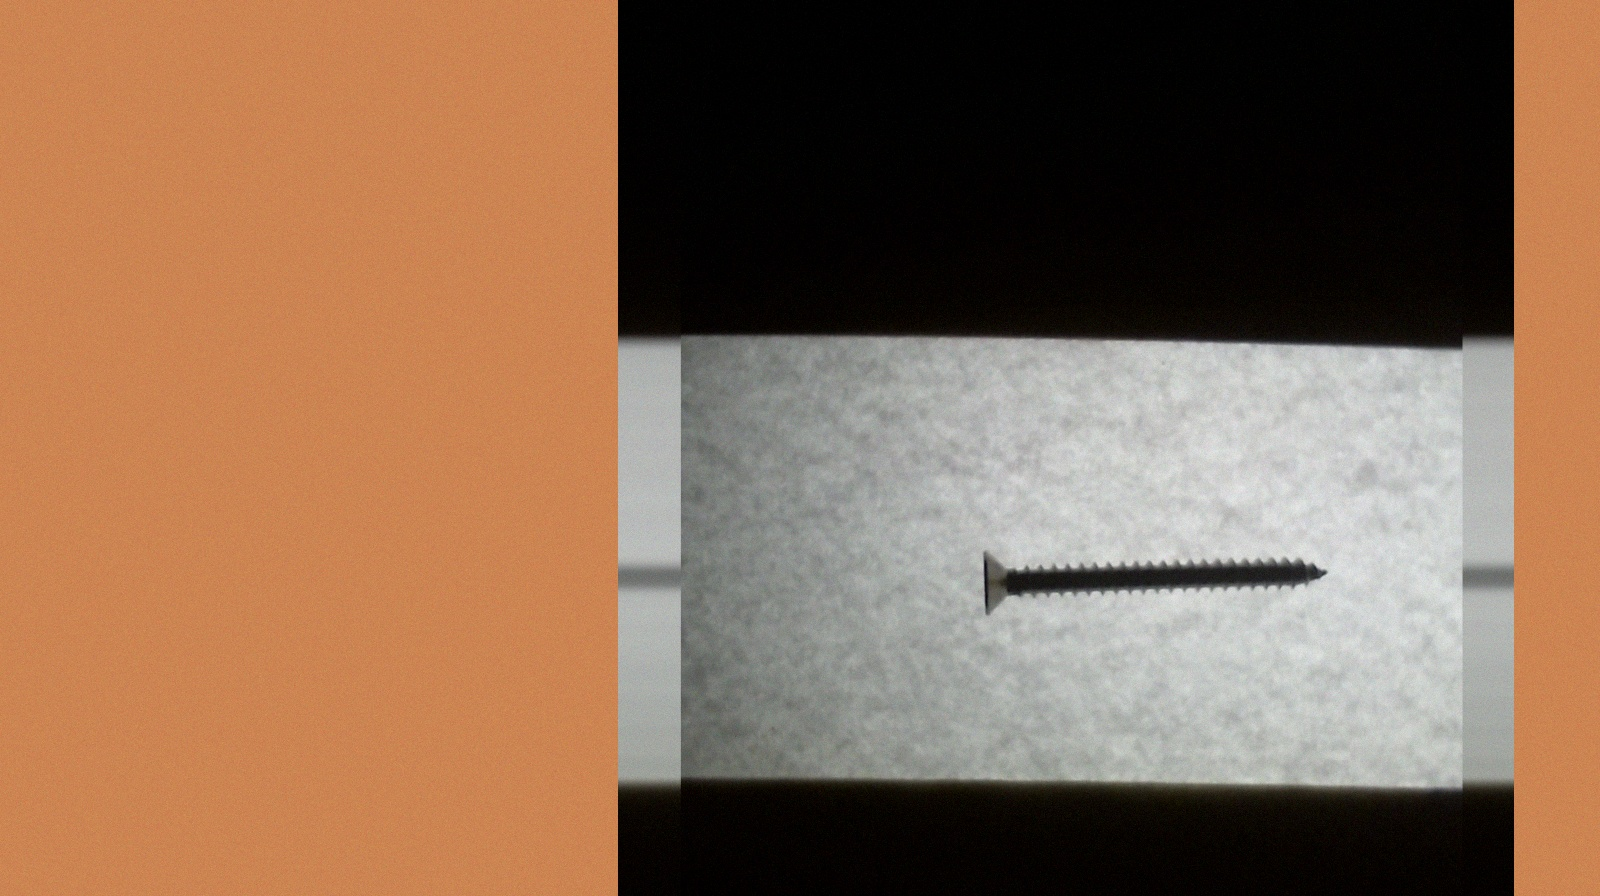S002: (967, 520, 1333, 646)
